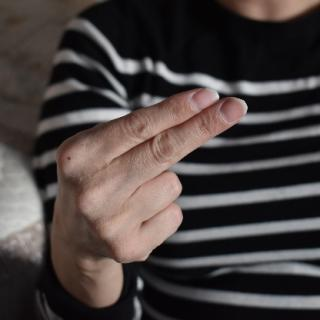AYN: (46, 81, 251, 277)
